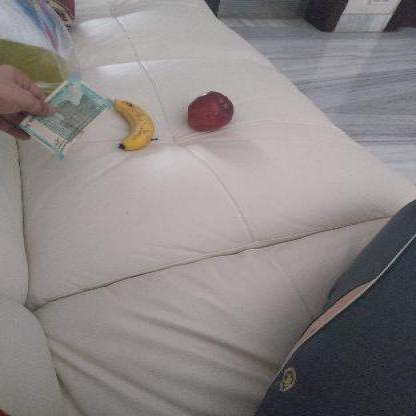New50Back: (29, 72, 110, 160)
